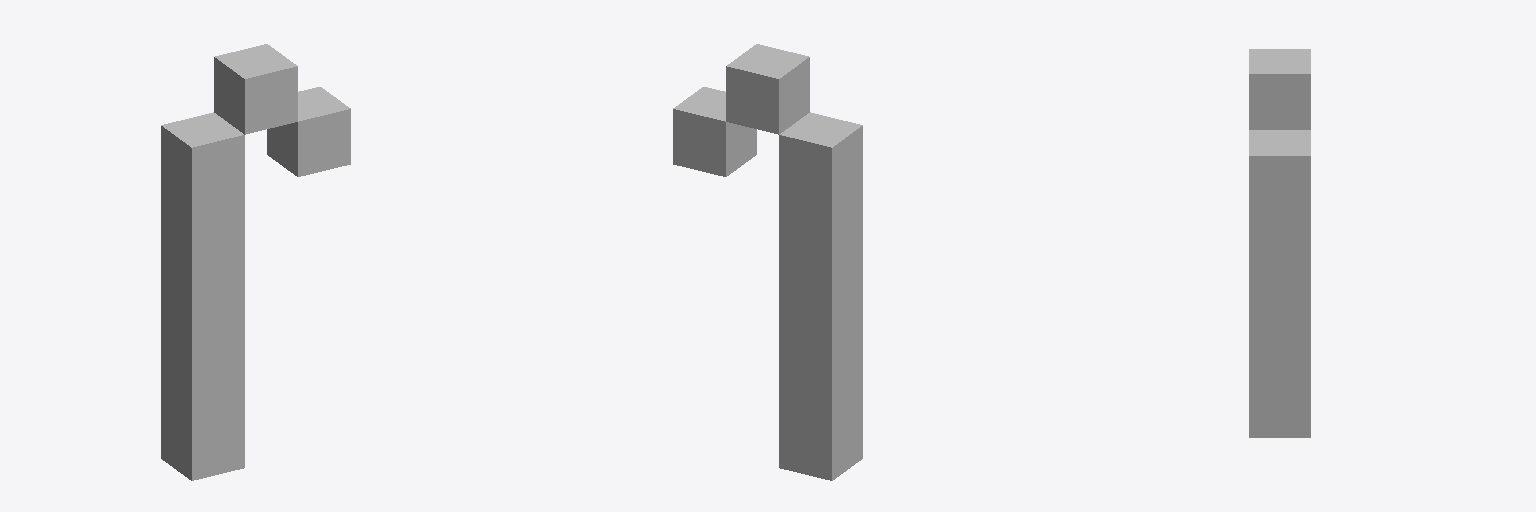
The model's file is Caramel_Cane.obj.
3 renders of one model, left to right at view 1: azimuth 30°, elevation 25°; view 2: azimuth 150°, elevation 25°; view 3: azimuth 270°, elevation 25°, orthographic.
Parts seen in each view (by area): view 1: object 1; view 2: object 1; view 3: object 1.
Part boxes in pixels (x1,y1,x2,y2): object 1: (161,44,350,480); object 1: (673,44,862,480); object 1: (1249,49,1310,437).
Bounding box in the file's own units: 0.3 × 0.7 × 0.1.